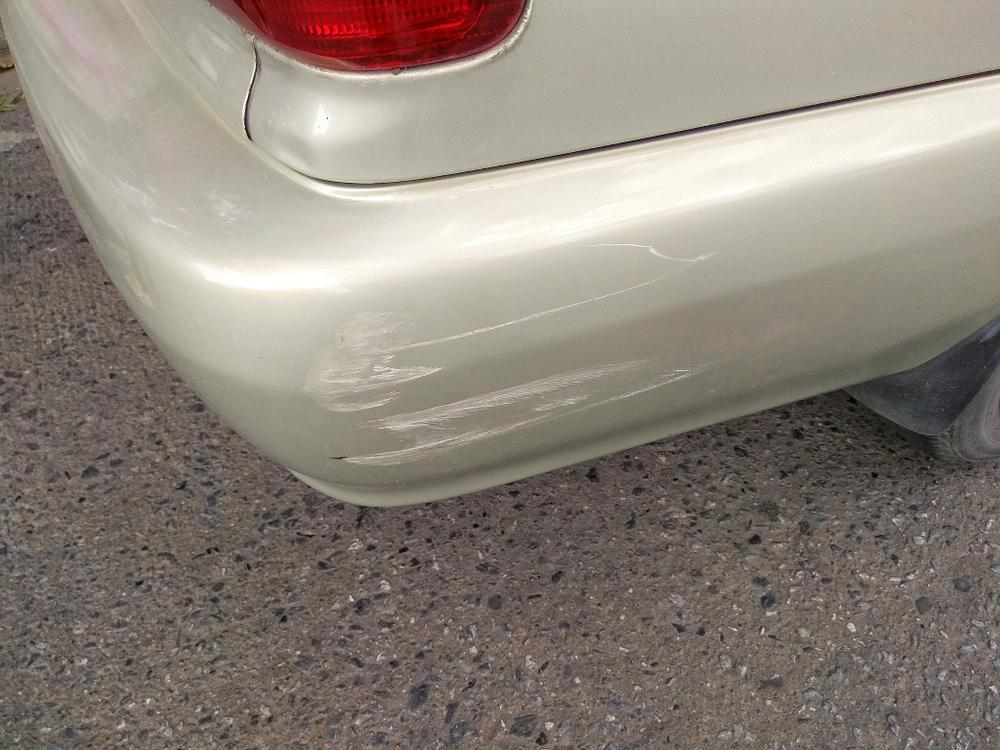scratch: (296, 298, 686, 472)
